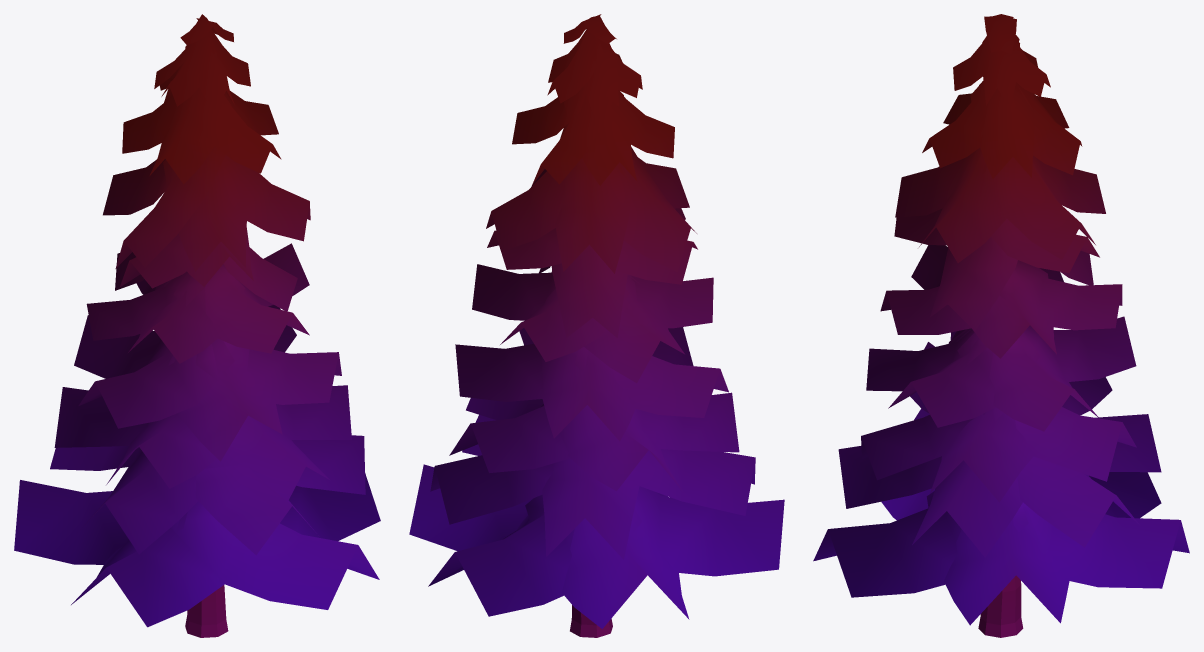
The model's file is pine-1.glb.
3 renders of one model, left to right at view 1: azimuth 30°, elevation 25°; view 2: azimuth 150°, elevation 25°; view 3: azimuth 270°, elevation 25°, orthographic.
Parts seen in each view (by area): view 1: SM_Tree_Pine_01; view 2: SM_Tree_Pine_01; view 3: SM_Tree_Pine_01.
Part boxes in pixels (bbox=[...]): SM_Tree_Pine_01: bbox=[14, 14, 380, 637]; SM_Tree_Pine_01: bbox=[409, 14, 784, 637]; SM_Tree_Pine_01: bbox=[813, 14, 1189, 637].
Bounding box in the file's own units: 3.14 × 5.68 × 3.17.
Materials: 2 (1 with a texture image).
